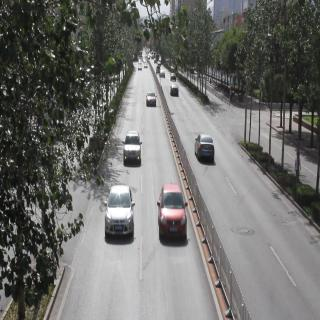Car: (155, 181, 190, 249), (107, 179, 137, 249), (192, 130, 220, 170), (122, 130, 145, 169), (144, 90, 161, 111), (168, 82, 179, 98)
